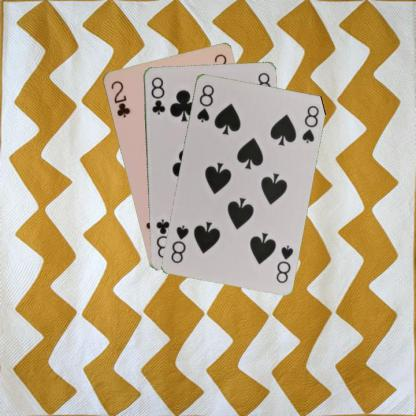2c: (108, 77, 131, 119)
8c: (148, 74, 166, 116)
8s: (194, 82, 215, 124), (273, 242, 294, 284)
